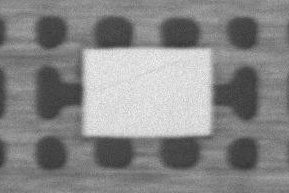DIE_CRACK: (147, 41, 268, 60)
